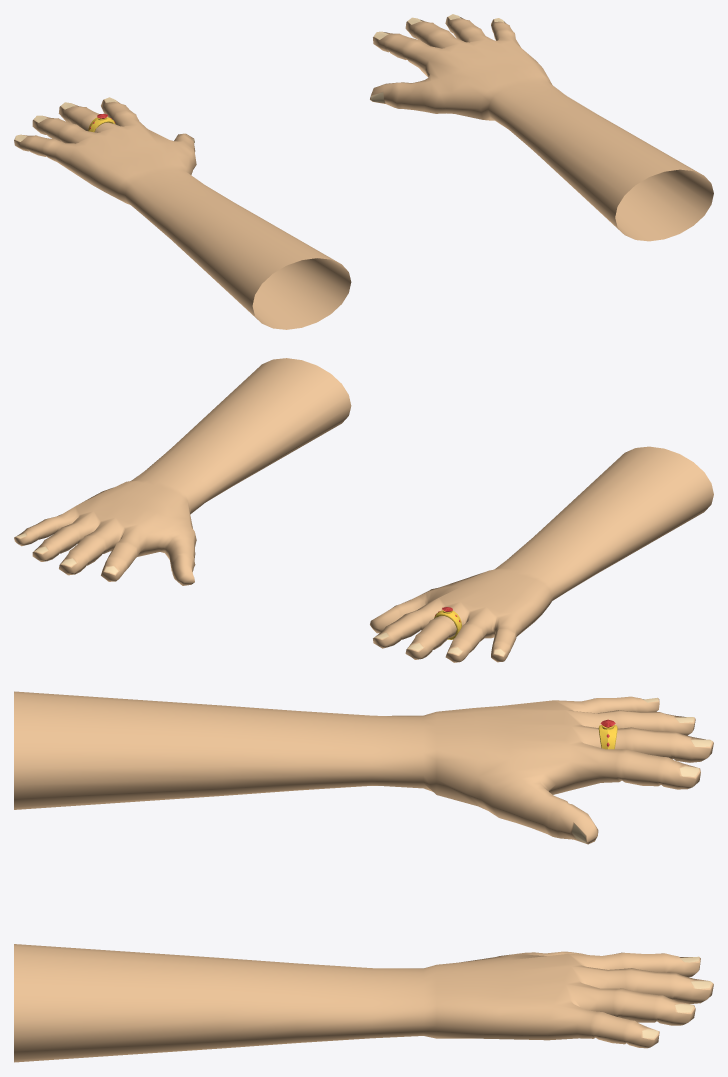
Rendered from Hand&Ring.fbx.
3 renders of one model, top to bottom at view 1: azimuth 30°, elevation 25°; view 2: azimuth 150°, elevation 25°; view 3: azimuth 270°, elevation 25°, orthographic. The views are drawn at different scales.
Visible parts, largest first — view 1: RHand, LHand; view 2: RHand, LHand; view 3: LHand, RHand.
Part boxes in pixels (left/top/right/bottom): RHand: left=370, top=14, right=713, bottom=241; LHand: left=14, top=97, right=351, bottom=329; RHand: left=14, top=358, right=351, bottom=585; LHand: left=370, top=446, right=713, bottom=662; LHand: left=14, top=691, right=713, bottom=844; RHand: left=14, top=944, right=713, bottom=1062.
Bounding box in the file's own units: 10.65 × 1.41 × 9.24.
